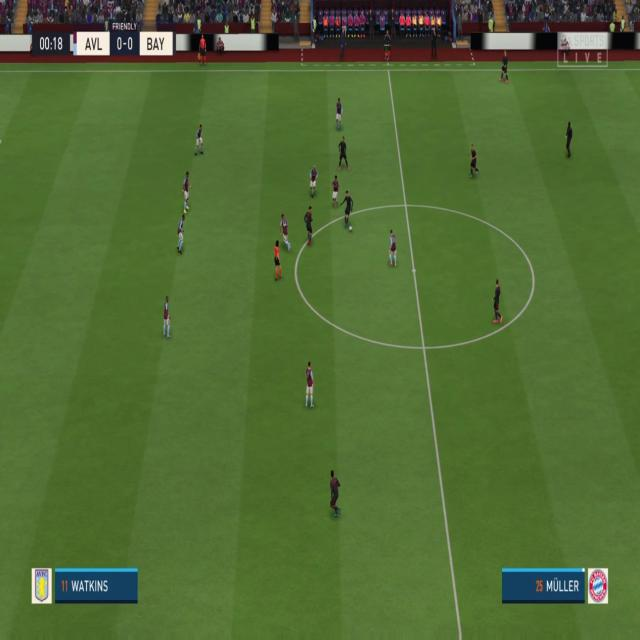Ball: (349, 225, 352, 233)
Referee: (273, 239, 284, 281)
Team-A: (341, 192, 354, 229), (330, 473, 342, 513), (304, 208, 315, 246), (337, 140, 350, 171), (494, 283, 504, 323), (468, 146, 479, 179), (566, 122, 575, 157), (501, 52, 510, 82)
Team-H: (161, 294, 173, 338), (180, 170, 192, 214), (305, 362, 316, 409), (279, 213, 292, 251), (175, 213, 186, 255), (389, 228, 400, 266), (194, 124, 205, 156), (335, 100, 344, 132), (310, 166, 318, 196), (332, 174, 339, 208)
